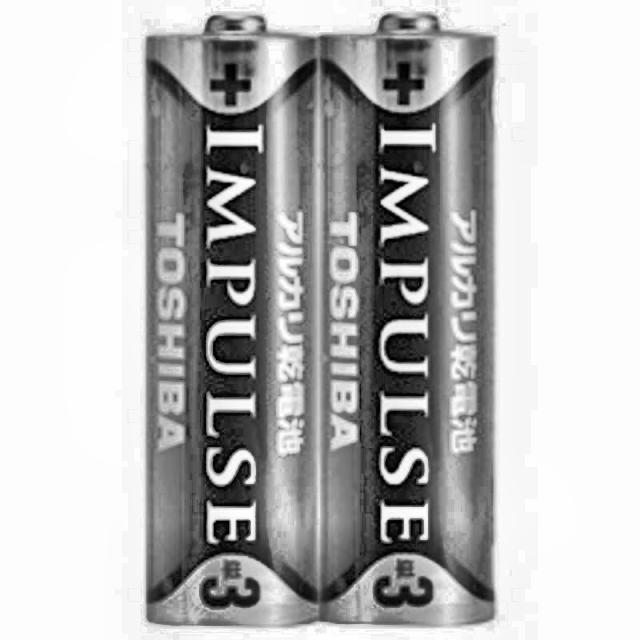drycell: (318, 11, 502, 629), (141, 9, 320, 632)
